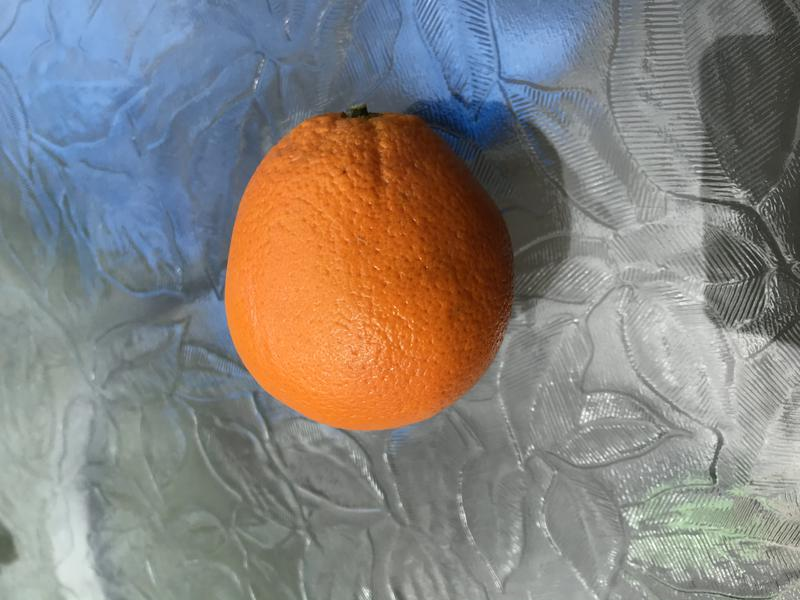orange: (214, 91, 530, 442)
